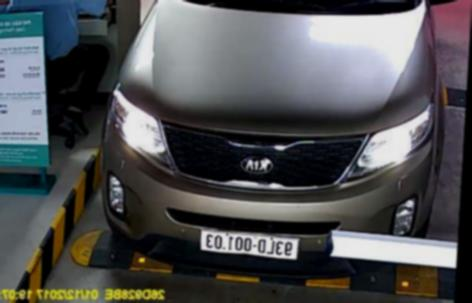License_Plate: (192, 226, 306, 259)
